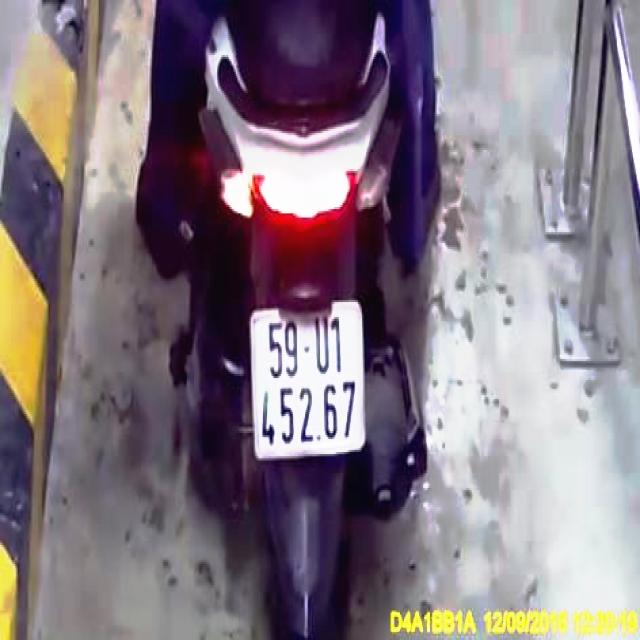license_plate: (253, 313, 366, 454)
